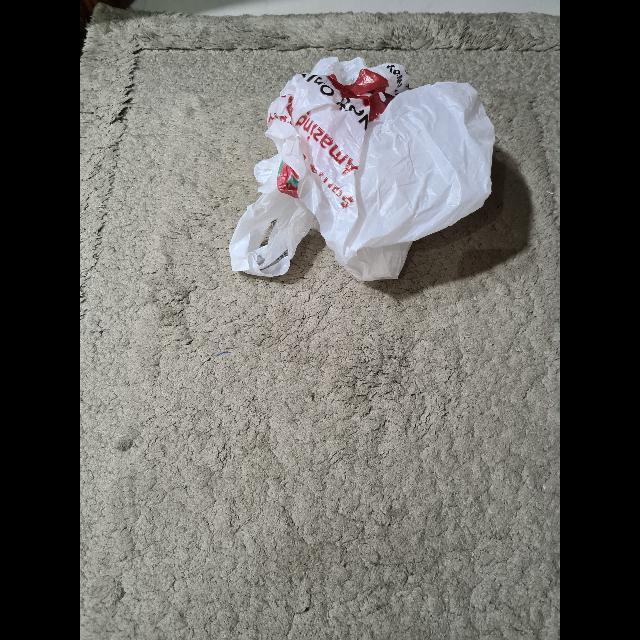plastic_bag: (232, 58, 496, 284)
